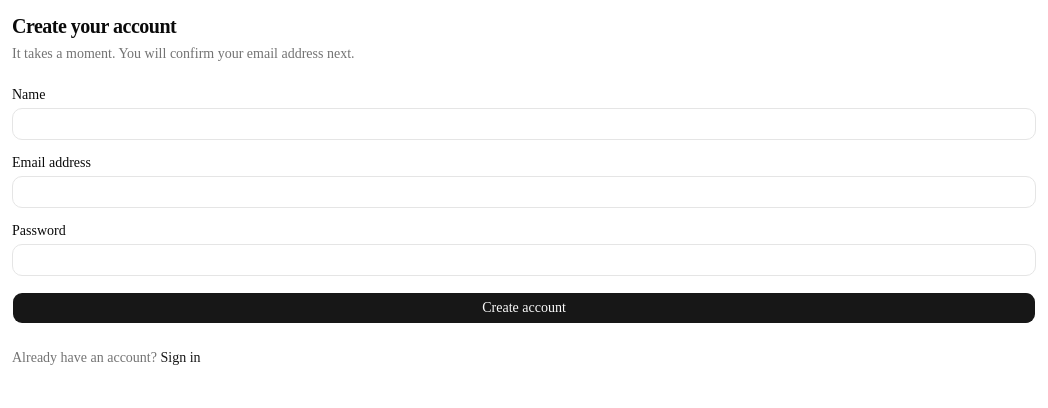
Test: SignUpForm › requires a name
Type "ada@example.com" into the field labelled "Email address" at [524, 192], box top-left (12, 176), bottom-right (1036, 208)
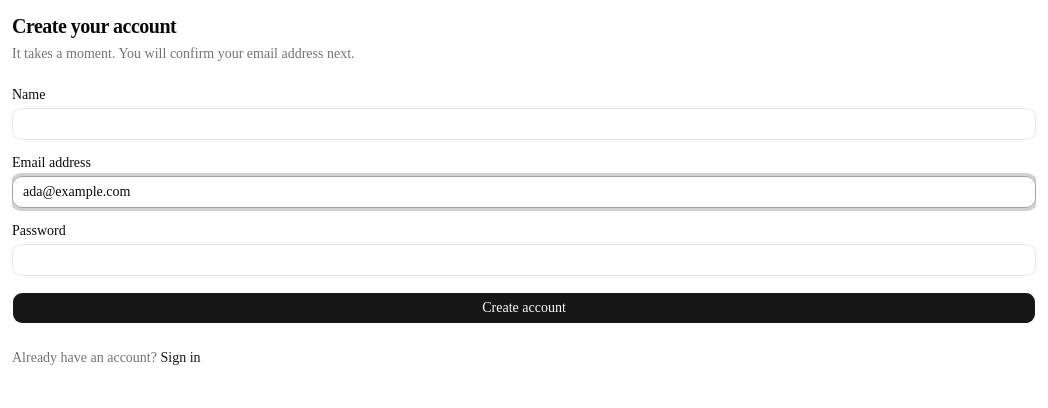
Type "a long enough password" into the password field labelled "Password" at [524, 260], box top-left (12, 244), bottom-right (1036, 276)
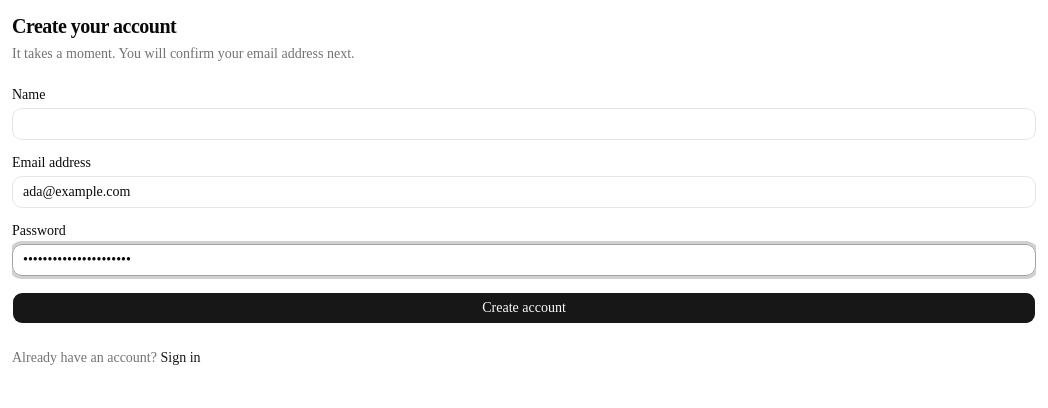
Click the button "Create account" at [524, 308], box top-left (12, 292), bottom-right (1036, 324)
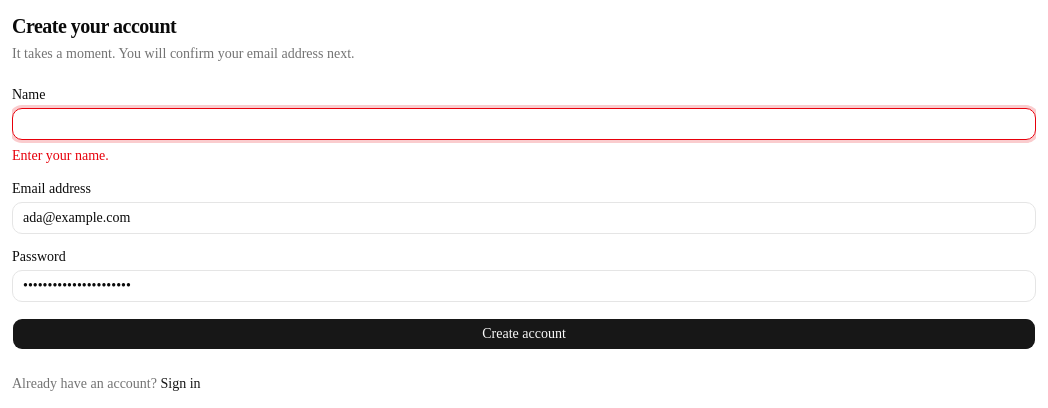
Expected: the text "Enter your name." is shown, top-left (12, 148), bottom-right (109, 163)
